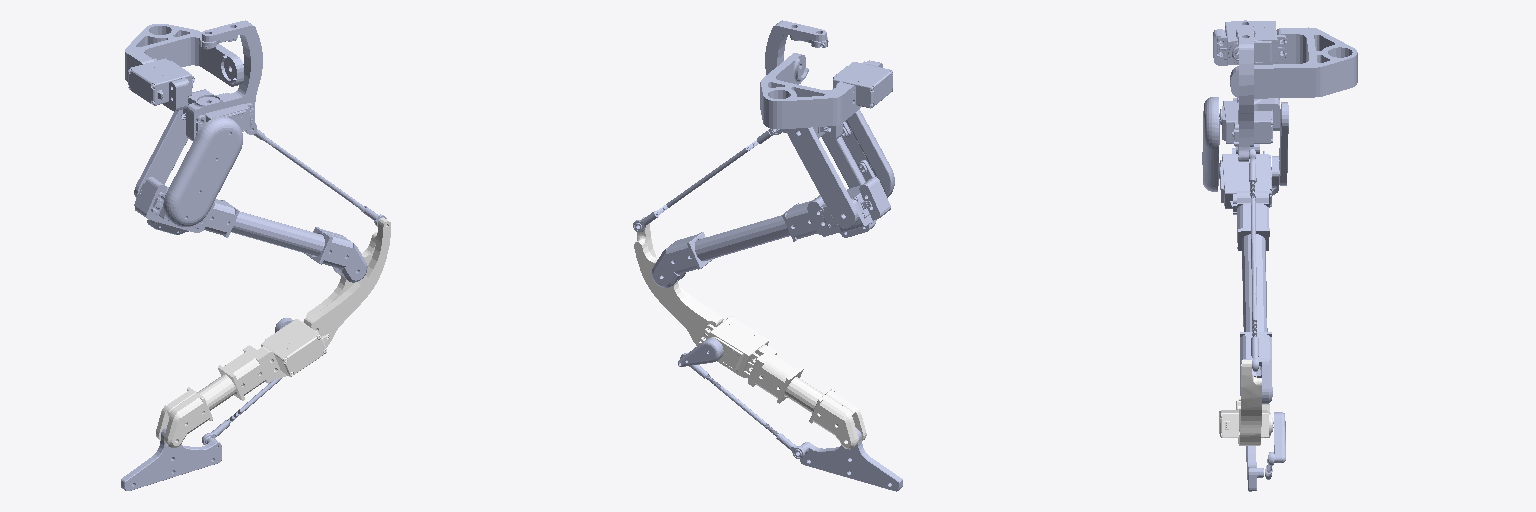
URDF robot description (URDP_v1):
<?xml version="1.0" encoding="utf-8"?>
<!-- This URDF was automatically created by SolidWorks to URDF Exporter! Originally created by [author] ([email redacted]) 
     Commit Version: 1.6.0-4-g7f85cfe  Build Version: 1.6.7995.38578
     For more information, please see http://wiki.ros.org/sw_urdf_exporter -->
<robot
  name="URDP_v1">

  <mujoco>
    <compiler meshdir="[local-path]\Documents\GitHub\Biped-Joy-Ctrl-Mk1\joystick_control_ws\src\joysub\URDP_v1\meshes" balanceinertia="true" discardvisual="false"/>
    <option gravity ="0 0 0" />
  </mujoco>

  <link
    name="base_link">
    <inertial>
      <origin
        xyz="0.026327315952113 0.0361682731860485 -0.00239811335495024"
        rpy="0 0 0" />
      <mass
        value="0.0832677381980082" />
      <inertia
        ixx="4.97913234598549E-05"
        ixy="-1.85974998447034E-06"
        ixz="-9.14892814616481E-07"
        iyy="4.3995038426551E-05"
        iyz="-1.18878264384435E-06"
        izz="8.53491154294736E-05" />
    </inertial>
    <visual>
      <origin
        xyz="0 0 0"
        rpy="0 0 0" />
      <geometry>
        <mesh
          filename="package://URDP_v1/meshes/base_link.STL" />
      </geometry>
      <material
        name="">
        <color
          rgba="0.792156862745098 0.819607843137255 0.933333333333333 1" />
      </material>
    </visual>
    <!--collision>
      <origin
        xyz="0 0 0"
        rpy="0 0 0" />
      <geometry>
        <mesh
          filename="package://URDP_v1/meshes/base_link.STL" />
      </geometry>
    </collision-->
  </link>
  <link
    name="Hip1">
    <inertial>
      <origin
        xyz="0.0116518126106317 0.000100400224812058 -0.000166389120435456"
        rpy="0 0 0" />
      <mass
        value="0.0510174247692634" />
      <inertia
        ixx="4.86516501370664E-06"
        ixy="2.70557298139425E-07"
        ixz="8.9854477754757E-07"
        iyy="1.26726780201138E-05"
        iyz="1.49480585254526E-07"
        izz="1.12868281472476E-05" />
    </inertial>
    <visual>
      <origin
        xyz="0 0 0"
        rpy="0 0 0" />
      <geometry>
        <mesh
          filename="package://URDP_v1/meshes/Hip1.STL" />
      </geometry>
      <material
        name="">
        <color
          rgba="0.792156862745098 0.819607843137255 0.933333333333333 1" />
      </material>
    </visual>
    <collision>
      <origin
        xyz="0 0 0"
        rpy="0 0 0" />
      <geometry>
        <mesh
          filename="package://URDP_v1/meshes/Hip1.STL" />
      </geometry>
    </collision>
  </link>
  <joint
    name="Hip1"
    type="revolute">
    <origin
      xyz="0.0479397057271347 0.00240512261550028 0"
      rpy="1.5707963267949 0 1.62092403869503" />
    <parent
      link="base_link" />
    <child
      link="Hip1" />
    <axis
      xyz="0 0 1" />
    <limit
      lower="0"
      upper="0"
      effort="0"
      velocity="0" />
  </joint>
  <link
    name="Hip2">
    <inertial>
      <origin
        xyz="-0.0155712976088673 0.00178011041081029 0.00130109388992716"
        rpy="0 0 0" />
      <mass
        value="0.0544682948145359" />
      <inertia
        ixx="2.50443581418711E-05"
        ixy="-2.11202622540915E-06"
        ixz="-6.38040658528886E-06"
        iyy="3.82490342248562E-05"
        iyz="-1.92205672736036E-06"
        izz="1.83537203359063E-05" />
    </inertial>
    <visual>
      <origin
        xyz="0 0 0"
        rpy="0 0 0" />
      <geometry>
        <mesh
          filename="package://URDP_v1/meshes/Hip2.STL" />
      </geometry>
      <material
        name="">
        <color
          rgba="0.792156862745098 0.819607843137255 0.933333333333333 1" />
      </material>
    </visual>
    <collision>
      <origin
        xyz="0 0 0"
        rpy="0 0 0" />
      <geometry>
        <mesh
          filename="package://URDP_v1/meshes/Hip2.STL" />
      </geometry>
    </collision>
  </link>
  <joint
    name="Hip2"
    type="revolute">
    <origin
      xyz="0.00291999888621859 -0.027508609679584 0"
      rpy="1.57370500083132 1.5707963267949 0" />
    <parent
      link="Hip1" />
    <child
      link="Hip2" />
    <axis
      xyz="0 0 1" />
    <limit
      lower="0"
      upper="0"
      effort="0"
      velocity="0" />
  </joint>
  <link
    name="Thigh">
    <inertial>
      <origin
        xyz="0.040000000208936 1.24310284288498E-11 0.0189637069443161"
        rpy="0 0 0" />
      <mass
        value="0.0523742410124517" />
      <inertia
        ixx="7.26482326818653E-06"
        ixy="-3.07518443659453E-09"
        ixz="-1.64778341870058E-16"
        iyy="3.27731828344629E-05"
        iyz="4.75029841105605E-17"
        izz="3.91480189823507E-05" />
    </inertial>
    <visual>
      <origin
        xyz="0 0 0"
        rpy="0 0 0" />
      <geometry>
        <mesh
          filename="package://URDP_v1/meshes/Thigh.STL" />
      </geometry>
      <material
        name="">
        <color
          rgba="0.792156862745098 0.819607843137255 0.933333333333333 1" />
      </material>
    </visual>
    <collision>
      <origin
        xyz="0 0 0"
        rpy="0 0 0" />
      <geometry>
        <mesh
          filename="package://URDP_v1/meshes/Thigh.STL" />
      </geometry>
    </collision>
  </link>
  <joint
    name="Thigh"
    type="revolute">
    <origin
      xyz="-0.00169174158402435 0.00645275215802343 0.016000000000002"
      rpy="1.57079632679489 -1.00233552800899 0.0296041455695987" />
    <parent
      link="Hip2" />
    <child
      link="Thigh" />
    <axis
      xyz="0 0 -1" />
    <limit
      lower="0"
      upper="0"
      effort="0"
      velocity="0" />
  </joint>
  <link
    name="Foreleg">
    <inertial>
      <origin
        xyz="0.0688873856499812 0.000990462711047 0.00114612899404557"
        rpy="0 0 0" />
      <mass
        value="0.0982589820261773" />
      <inertia
        ixx="8.86012061373027E-06"
        ixy="-4.57925868942746E-06"
        ixz="-1.48075610184833E-06"
        iyy="7.58306712031382E-05"
        iyz="2.36792403028851E-08"
        izz="8.02377100507431E-05" />
    </inertial>
    <visual>
      <origin
        xyz="0 0 0"
        rpy="0 0 0" />
      <geometry>
        <mesh
          filename="package://URDP_v1/meshes/Foreleg.STL" />
      </geometry>
      <material
        name="">
        <color
          rgba="0.792156862745098 0.819607843137255 0.933333333333333 1" />
      </material>
    </visual>
    <collision>
      <origin
        xyz="0 0 0"
        rpy="0 0 0" />
      <geometry>
        <mesh
          filename="package://URDP_v1/meshes/Foreleg.STL" />
      </geometry>
    </collision>
  </link>
  <joint
    name="Foreleg"
    type="revolute">
    <origin
      xyz="0.0800000000000005 0 0"
      rpy="0 0 1.62209659499727" />
    <parent
      link="Thigh" />
    <child
      link="Foreleg" />
    <axis
      xyz="0 0 -1" />
    <limit
      lower="0"
      upper="0"
      effort="0"
      velocity="0" />
  </joint>
  <link
    name="Shin">
    <inertial>
      <origin
        xyz="0.0916128996301525 -0.0109521905991159 -0.00341956270454538"
        rpy="0 0 0" />
      <mass
        value="0.101694233294101" />
      <inertia
        ixx="1.01516759974951E-05"
        ixy="2.22046411927541E-06"
        ixz="2.33988825312875E-06"
        iyy="0.000124126098251688"
        iyz="7.12266749529426E-08"
        izz="0.000130107688368075" />
    </inertial>
    <visual>
      <origin
        xyz="0 0 0"
        rpy="0 0 0" />
      <geometry>
        <mesh
          filename="package://URDP_v1/meshes/Shin.STL" />
      </geometry>
      <material
        name="">
        <color
          rgba="1 1 1 1" />
      </material>
    </visual>
    <collision>
      <origin
        xyz="0 0 0"
        rpy="0 0 0" />
      <geometry>
        <mesh
          filename="package://URDP_v1/meshes/Shin.STL" />
      </geometry>
    </collision>
  </link>
  <joint
    name="Shin"
    type="revolute">
    <origin
      xyz="0.211462065139038 0 0"
      rpy="-3.14159265358979 0 -2.05348880994447" />
    <parent
      link="Foreleg" />
    <child
      link="Shin" />
    <axis
      xyz="0 0 -1" />
    <limit
      lower="0"
      upper="0"
      effort="0"
      velocity="0" />
  </joint>
  <link
    name="Foot">
    <inertial>
      <origin
        xyz="0.0141674318168209 -0.0201226826332977 9.61230456462438E-05"
        rpy="0 0 0" />
      <mass
        value="0.0150022339024416" />
      <inertia
        ixx="4.40610915149232E-06"
        ixy="-3.43921576415037E-06"
        ixz="4.81980236131635E-08"
        iyy="5.69585889813143E-06"
        iyz="3.66466005351335E-08"
        izz="9.96343325503536E-06" />
    </inertial>
    <visual>
      <origin
        xyz="0 0 0"
        rpy="0 0 0" />
      <geometry>
        <mesh
          filename="package://URDP_v1/meshes/Foot.STL" />
      </geometry>
      <material
        name="">
        <color
          rgba="0.792156862745098 0.819607843137255 0.933333333333333 1" />
      </material>
    </visual>
    <collision>
      <origin
        xyz="0 0 0"
        rpy="0 0 0" />
      <geometry>
        <mesh
          filename="package://URDP_v1/meshes/Foot.STL" />
      </geometry>
    </collision>
  </link>
  <joint
    name="Foot"
    type="revolute">
    <origin
      xyz="0.210793878641788 0 0"
      rpy="0 0 -0.184475144040257" />
    <parent
      link="Shin" />
    <child
      link="Foot" />
    <axis
      xyz="0 0 1" />
    <limit
      lower="0"
      upper="0"
      effort="0"
      velocity="0" />
  </joint>
  <link
    name="Calf_arm">
    <inertial>
      <origin
        xyz="0.00881538902341109 -5.49195786098133E-07 0.00422480580938491"
        rpy="0 0 0" />
      <mass
        value="0.00424737722691909" />
      <inertia
        ixx="1.10273581517289E-07"
        ixy="1.53709148425184E-09"
        ixz="-8.57394509400597E-10"
        iyy="5.98396766450953E-07"
        iyz="-2.26021742547613E-11"
        izz="6.64958804433703E-07" />
    </inertial>
    <visual>
      <origin
        xyz="0 0 0"
        rpy="0 0 0" />
      <geometry>
        <mesh
          filename="package://URDP_v1/meshes/Calf_arm.STL" />
      </geometry>
      <material
        name="">
        <color
          rgba="0.792156862745098 0.819607843137255 0.933333333333333 1" />
      </material>
    </visual>
    <collision>
      <origin
        xyz="0 0 0"
        rpy="0 0 0" />
      <geometry>
        <mesh
          filename="package://URDP_v1/meshes/Calf_arm.STL" />
      </geometry>
    </collision>
  </link>
  <joint
    name="Calf_arm"
    type="revolute">
    <origin
      xyz="0.0722742073234425 -0.0181017087278485 0.0240000000000011"
      rpy="3.14159265358979 0 -2.01095909772797" />
    <parent
      link="Shin" />
    <child
      link="Calf_arm" />
    <axis
      xyz="0 0 -1" />
    <limit
      lower="0"
      upper="0"
      effort="0"
      velocity="0" />
  </joint>
  <link
    name="Calf_Link">
    <inertial>
      <origin
        xyz="0.062500578740133 1.94212954329753E-08 -0.00200013079890936"
        rpy="0 0 0" />
      <mass
        value="0.00251539645865265" />
      <inertia
        ixx="1.20234515785088E-08"
        ixy="-1.09289710427895E-12"
        ixz="1.16691939601623E-12"
        iyy="9.16020132399015E-07"
        iyz="6.55359740986884E-14"
        izz="9.20342981411072E-07" />
    </inertial>
    <visual>
      <origin
        xyz="0 0 0"
        rpy="0 0 0" />
      <geometry>
        <mesh
          filename="package://URDP_v1/meshes/Calf_Link.STL" />
      </geometry>
      <material
        name="">
        <color
          rgba="0.792156862745098 0.819607843137255 0.933333333333333 1" />
      </material>
    </visual>
    <collision>
      <origin
        xyz="0 0 0"
        rpy="0 0 0" />
      <geometry>
        <mesh
          filename="package://URDP_v1/meshes/Calf_Link.STL" />
      </geometry>
    </collision>
  </link>
  <joint
    name="Calf_Link"
    type="revolute">
    <origin
      xyz="0.0319999999999999 0 0.00945000000000017"
      rpy="-3.14159265358978 0 -2.05757527134505" />
    <parent
      link="Calf_arm" />
    <child
      link="Calf_Link" />
    <axis
      xyz="0 0 -1" />
    <limit
      lower="0"
      upper="0"
      effort="0"
      velocity="0" />
  </joint>
  <link
    name="Linkage_1">
    <inertial>
      <origin
        xyz="1.33361144145222E-07 -0.00245000755707746 0.0894803593680583"
        rpy="0 0 0" />
      <mass
        value="0.00319260971085254" />
      <inertia
        ixx="3.31936493137546E-06"
        ixy="9.72148410094043E-13"
        ixz="-2.04752662292582E-11"
        iyy="3.32368778169552E-06"
        iyz="8.85648267949959E-12"
        izz="1.33749228878975E-08" />
    </inertial>
    <visual>
      <origin
        xyz="0 0 0"
        rpy="0 0 0" />
      <geometry>
        <mesh
          filename="package://URDP_v1/meshes/Linkage_1.STL" />
      </geometry>
      <material
        name="">
        <color
          rgba="0.792156862745098 0.819607843137255 0.933333333333333 1" />
      </material>
    </visual>
    <collision>
      <origin
        xyz="0 0 0"
        rpy="0 0 0" />
      <geometry>
        <mesh
          filename="package://URDP_v1/meshes/Linkage_1.STL" />
      </geometry>
    </collision>
  </link>
  <joint
    name="Linkage_1"
    type="revolute">
    <origin
      xyz="-0.0391068889874712 0.00134303154155405 0.0320000000000015"
      rpy="0 0.831075448247001 -3.1119885080202" />
    <parent
      link="Hip2" />
    <child
      link="Linkage_1" />
    <axis
      xyz="0 -1 0" />
    <limit
      lower="0"
      upper="0"
      effort="0"
      velocity="0" />
  </joint>
</robot>

--- Facts derived from the render (not from the file) ---
Views: 3 orthographic renders of the robot side by side, from view 1: azimuth 30°, elevation 25°; view 2: azimuth 150°, elevation 25°; view 3: azimuth 270°, elevation 25°.
Robot: URDP_v1 — 10 links, 9 joints (9 revolute); root link base_link; default pose: every joint at zero.
Visible links, largest first — view 1: Shin, Thigh, base_link, Foreleg, Hip2, Foot, Linkage_1, Calf_Link; view 2: Shin, Foreleg, base_link, Thigh, Foot, Hip2, Linkage_1, Calf_Link, Calf_arm; view 3: base_link, Foreleg, Hip2, Shin, Thigh, Linkage_1, Calf_arm.
Link boxes in pixels (box(x1,y1,x2,y2)): Shin: box(156, 218, 390, 447); Thigh: box(134, 109, 242, 226); base_link: box(125, 24, 243, 111); Foreleg: box(134, 177, 367, 282); Hip2: box(181, 20, 262, 140); Foot: box(121, 427, 221, 490); Linkage_1: box(254, 129, 386, 226); Calf_Link: box(202, 378, 281, 444); Shin: box(634, 217, 866, 449); Foreleg: box(652, 177, 890, 287); base_link: box(760, 53, 892, 128); Thigh: box(787, 109, 894, 227); Foot: box(800, 428, 902, 491); Hip2: box(765, 20, 842, 141); Linkage_1: box(633, 128, 781, 232); Calf_Link: box(680, 353, 804, 458); Calf_arm: box(678, 338, 723, 366); base_link: box(1213, 21, 1357, 98); Foreleg: box(1219, 144, 1278, 403); Hip2: box(1219, 20, 1279, 161); Shin: box(1219, 360, 1273, 445); Thigh: box(1202, 97, 1288, 191); Linkage_1: box(1249, 148, 1258, 371); Calf_arm: box(1274, 412, 1285, 462).
Bounding box of the posed robot: 0.2583 × 0.1223 × 0.4067 m (x, y, z).
Meshes: 10 distinct files referenced, 9 mesh visuals loaded (9 binary STL); not drawn: 1 (reference not matched to a file when rendering).
